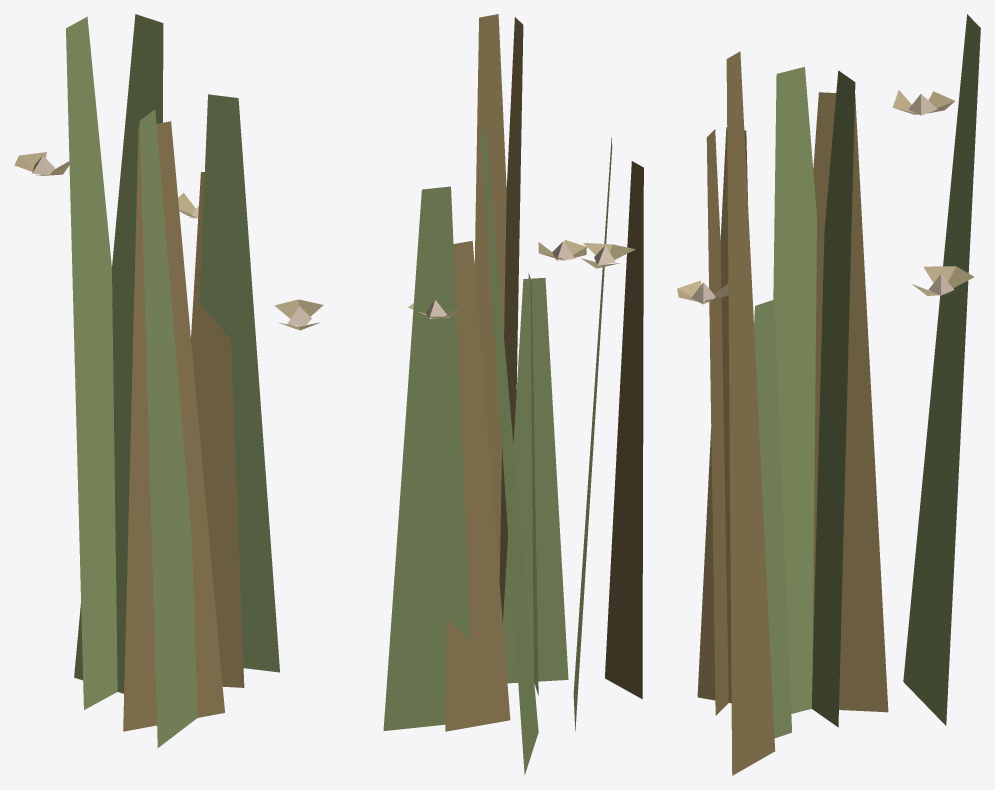
File: cao.luwei__autumn.glb
3 renders of one model, left to right at view 1: azimuth 30°, elevation 25°; view 2: azimuth 150°, elevation 25°; view 3: azimuth 270°, elevation 25°, orthographic. The views are drawn at different scales.
Parts seen in each view (by area): view 1: cao.luwei__autumn; view 2: cao.luwei__autumn; view 3: cao.luwei__autumn.
Boxes of the visible parts, box(x1,y1,x2,y2) form: cao.luwei__autumn: box(14, 14, 323, 747); cao.luwei__autumn: box(383, 14, 643, 774); cao.luwei__autumn: box(677, 14, 980, 775).
Size of the model in its own units: 0.8967 by 2.41 by 0.9459.
